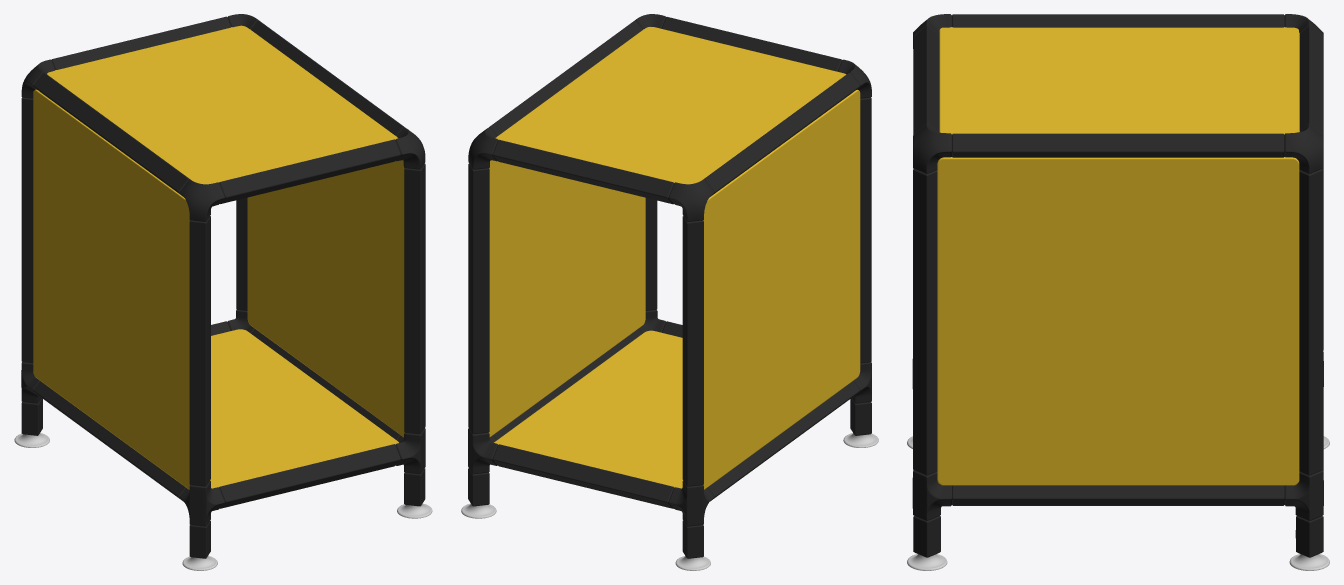
3 renders of one model, left to right at view 1: azimuth 30°, elevation 25°; view 2: azimuth 150°, elevation 25°; view 3: azimuth 270°, elevation 25°, orthographic. The views are drawn at different scales.
Parts seen in each view (by area): view 1: 229x329x329; view 2: 229x329x329; view 3: 229x329x329.
Boxes of the visible parts, left/top/right/bottom form: 229x329x329: left=14, top=14, right=432, bottom=570; 229x329x329: left=461, top=14, right=878, bottom=570; 229x329x329: left=907, top=14, right=1329, bottom=570.
Bounding box in the file's own units: 0.3189 × 0.4683 × 0.4182.
